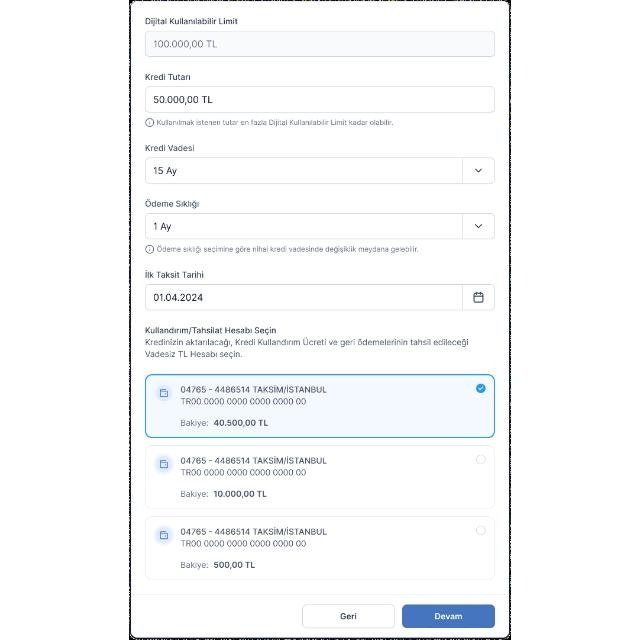QLabel: (143, 338, 471, 347), (156, 245, 420, 255), (157, 118, 396, 128), (178, 525, 328, 537), (179, 384, 327, 394), (143, 326, 277, 336), (179, 539, 313, 549), (180, 468, 308, 478), (179, 456, 327, 464), (143, 350, 245, 360), (182, 397, 308, 405), (144, 17, 240, 27), (144, 268, 206, 280), (144, 198, 203, 210), (213, 488, 270, 499), (213, 419, 269, 429), (213, 560, 255, 572), (144, 72, 193, 82), (433, 611, 469, 623), (144, 144, 196, 152), (178, 488, 210, 498), (178, 560, 210, 570), (333, 611, 362, 621), (180, 419, 208, 427)
VBtn: (302, 604, 396, 628), (402, 604, 496, 628)
VCard: (130, 0, 510, 640), (145, 444, 495, 510), (146, 516, 497, 580), (146, 374, 494, 438)
VCombobox: (144, 212, 496, 240), (144, 158, 496, 185)
VDivider: (130, 592, 512, 598)
VIcon: (154, 453, 174, 472), (154, 526, 173, 544), (156, 385, 172, 401), (145, 116, 155, 130), (144, 244, 154, 256)
VInlineDatepicker: (145, 283, 495, 309)
VTextField: (144, 86, 496, 114), (145, 31, 495, 57)
